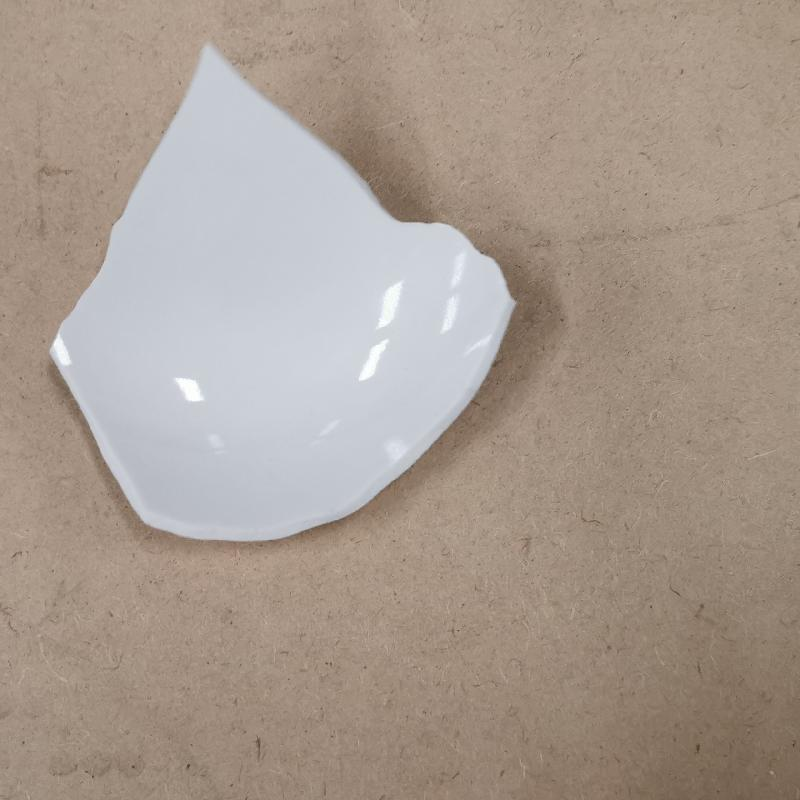ceram: (49, 39, 513, 546)
